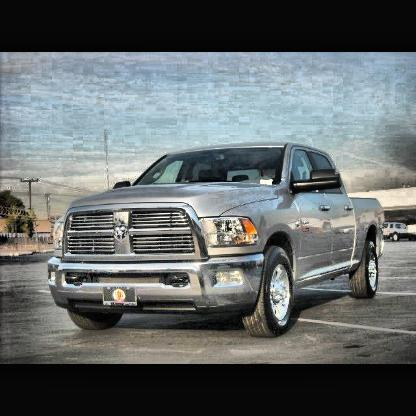Dodge Ram Pickup 3500 Crew Cab 2010: (47, 142, 387, 339)
